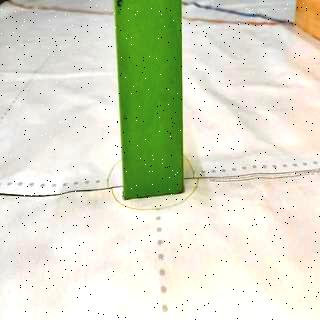greenbox: (111, 3, 192, 199)
